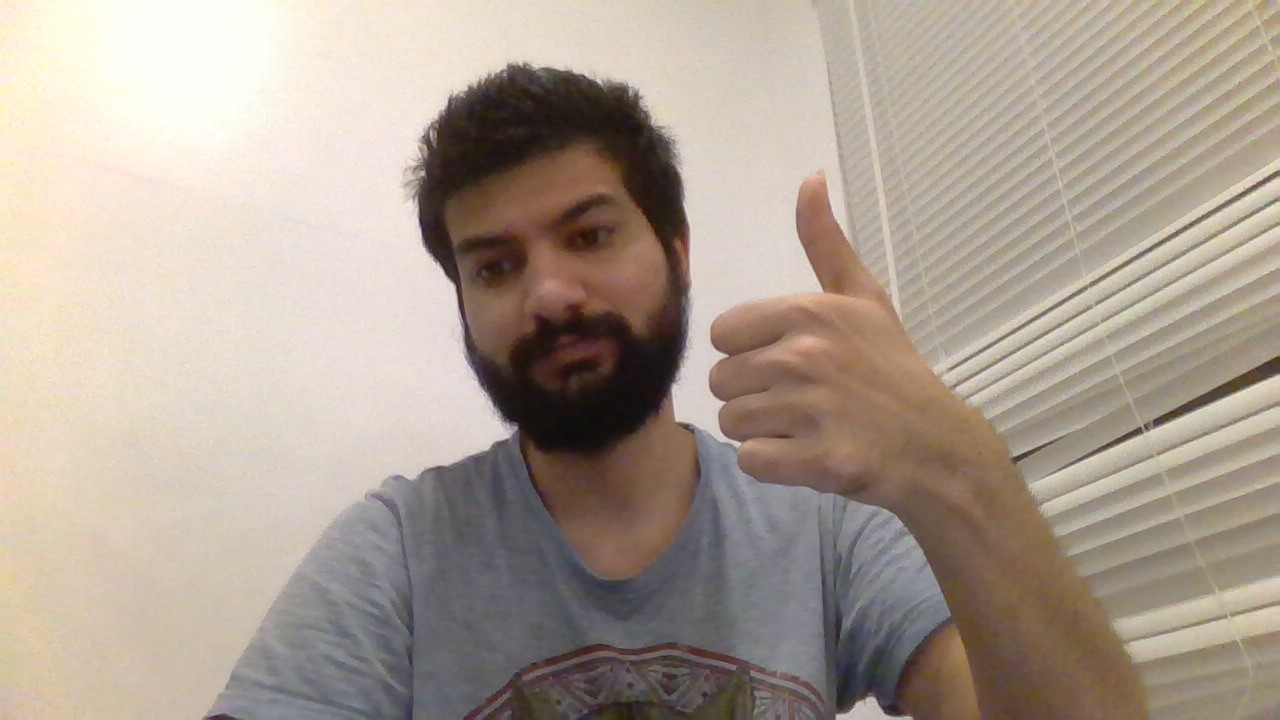up: (692, 161, 925, 503)
